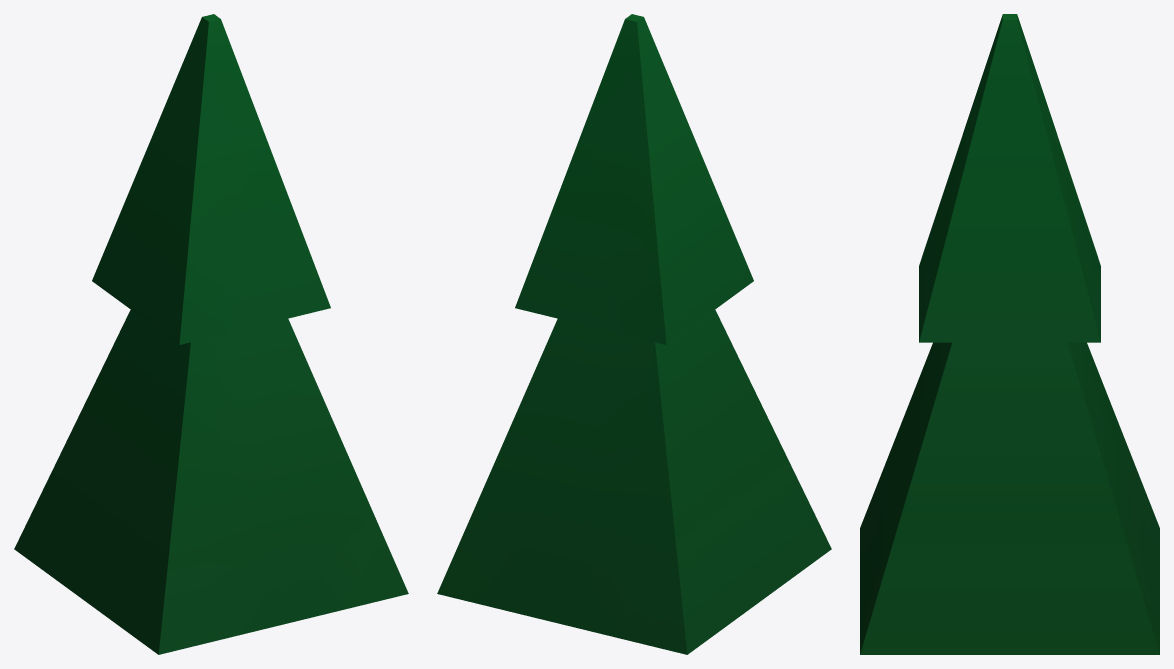
Rendered from fir tree 2.fbx.
3 renders of one model, left to right at view 1: azimuth 30°, elevation 25°; view 2: azimuth 150°, elevation 25°; view 3: azimuth 270°, elevation 25°, orthographic. The views are drawn at different scales.
Visible parts, largest first — view 1: fir tree 2; view 2: fir tree 2; view 3: fir tree 2.
Boxes of the visible parts, <box> form: fir tree 2: <box>14,14,408,654</box>; fir tree 2: <box>437,14,831,654</box>; fir tree 2: <box>860,14,1159,654</box>.
Size of the model in its own units: 208 by 477 by 208.
1 material, 1 textured.
